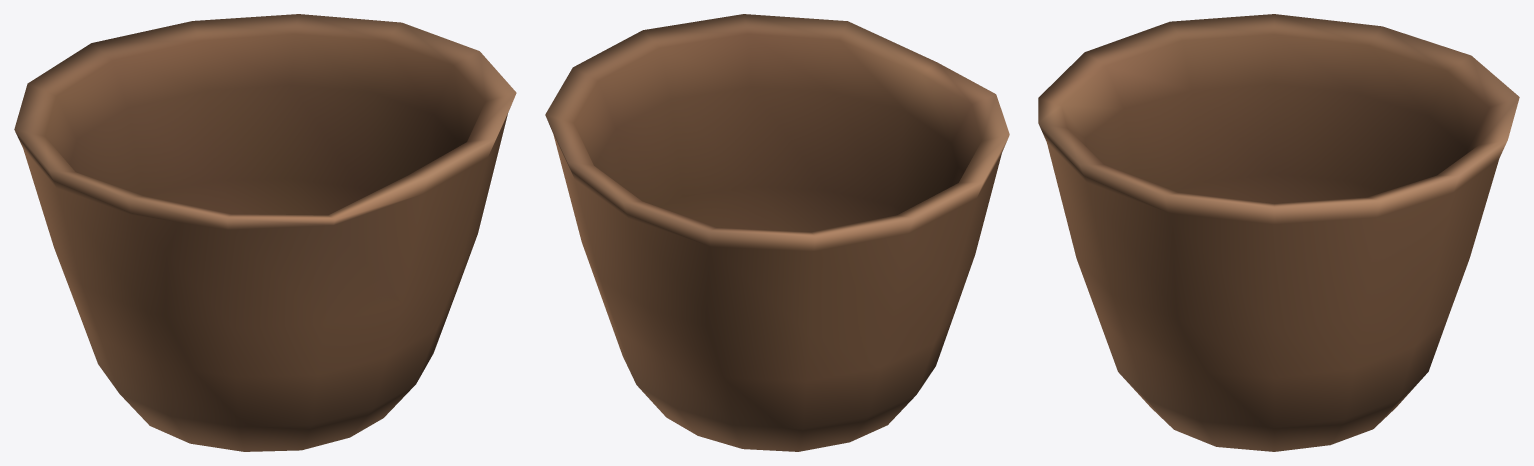
The model's file is pot_kulhad_v2_c.glb.
The picture shows the model from 3 angles, left to right: view 1: azimuth 30°, elevation 25°; view 2: azimuth 150°, elevation 25°; view 3: azimuth 270°, elevation 25°; orthographic projection. The views are drawn at different scales.
Parts seen in each view (by area): view 1: hb_main; view 2: hb_main; view 3: hb_main.
Boxes of the visible parts, <box> form: hb_main: <box>14,14,516,451</box>; hb_main: <box>545,14,1009,451</box>; hb_main: <box>1038,14,1519,451</box>.
Bounding box in the file's own units: 0.1146 × 0.0759 × 0.1116.
